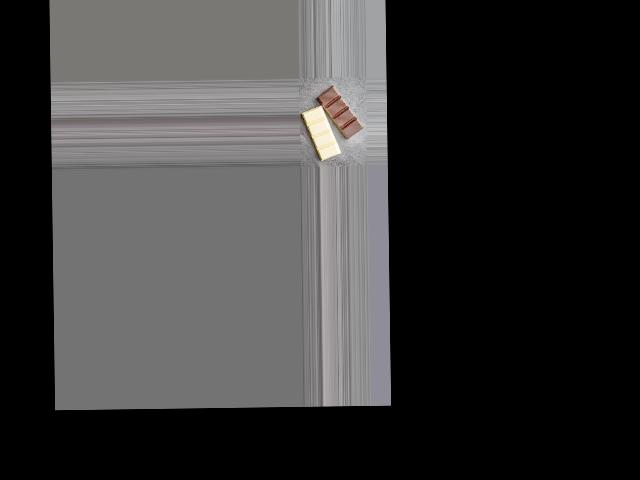chocolate: (302, 85, 362, 164)
